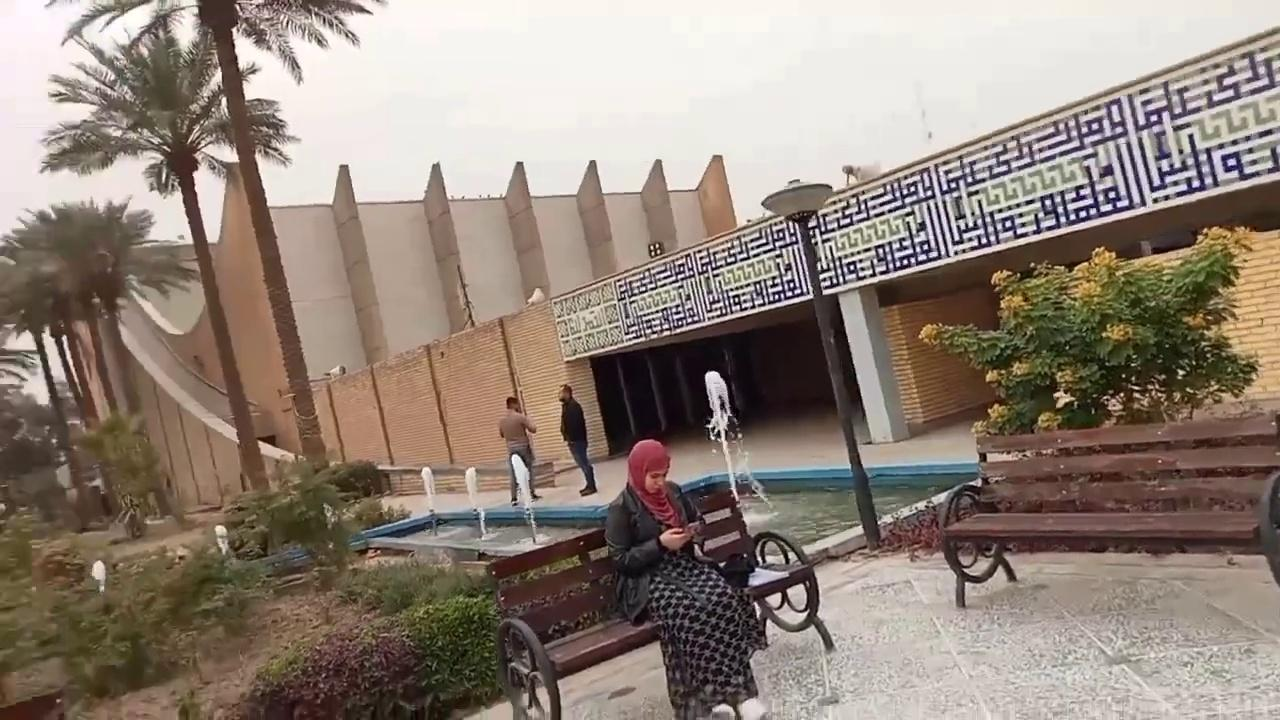fountain: (341, 454, 978, 572), (348, 456, 587, 566), (700, 368, 777, 521), (415, 457, 543, 545), (701, 369, 743, 508), (511, 452, 540, 543), (463, 465, 489, 538), (419, 465, 440, 536)
person: (603, 438, 771, 719), (498, 395, 541, 506), (557, 383, 597, 496)
tree: (37, 15, 307, 494), (916, 222, 1261, 437), (1, 194, 201, 522), (0, 248, 110, 525), (217, 452, 411, 591), (0, 248, 74, 450)
